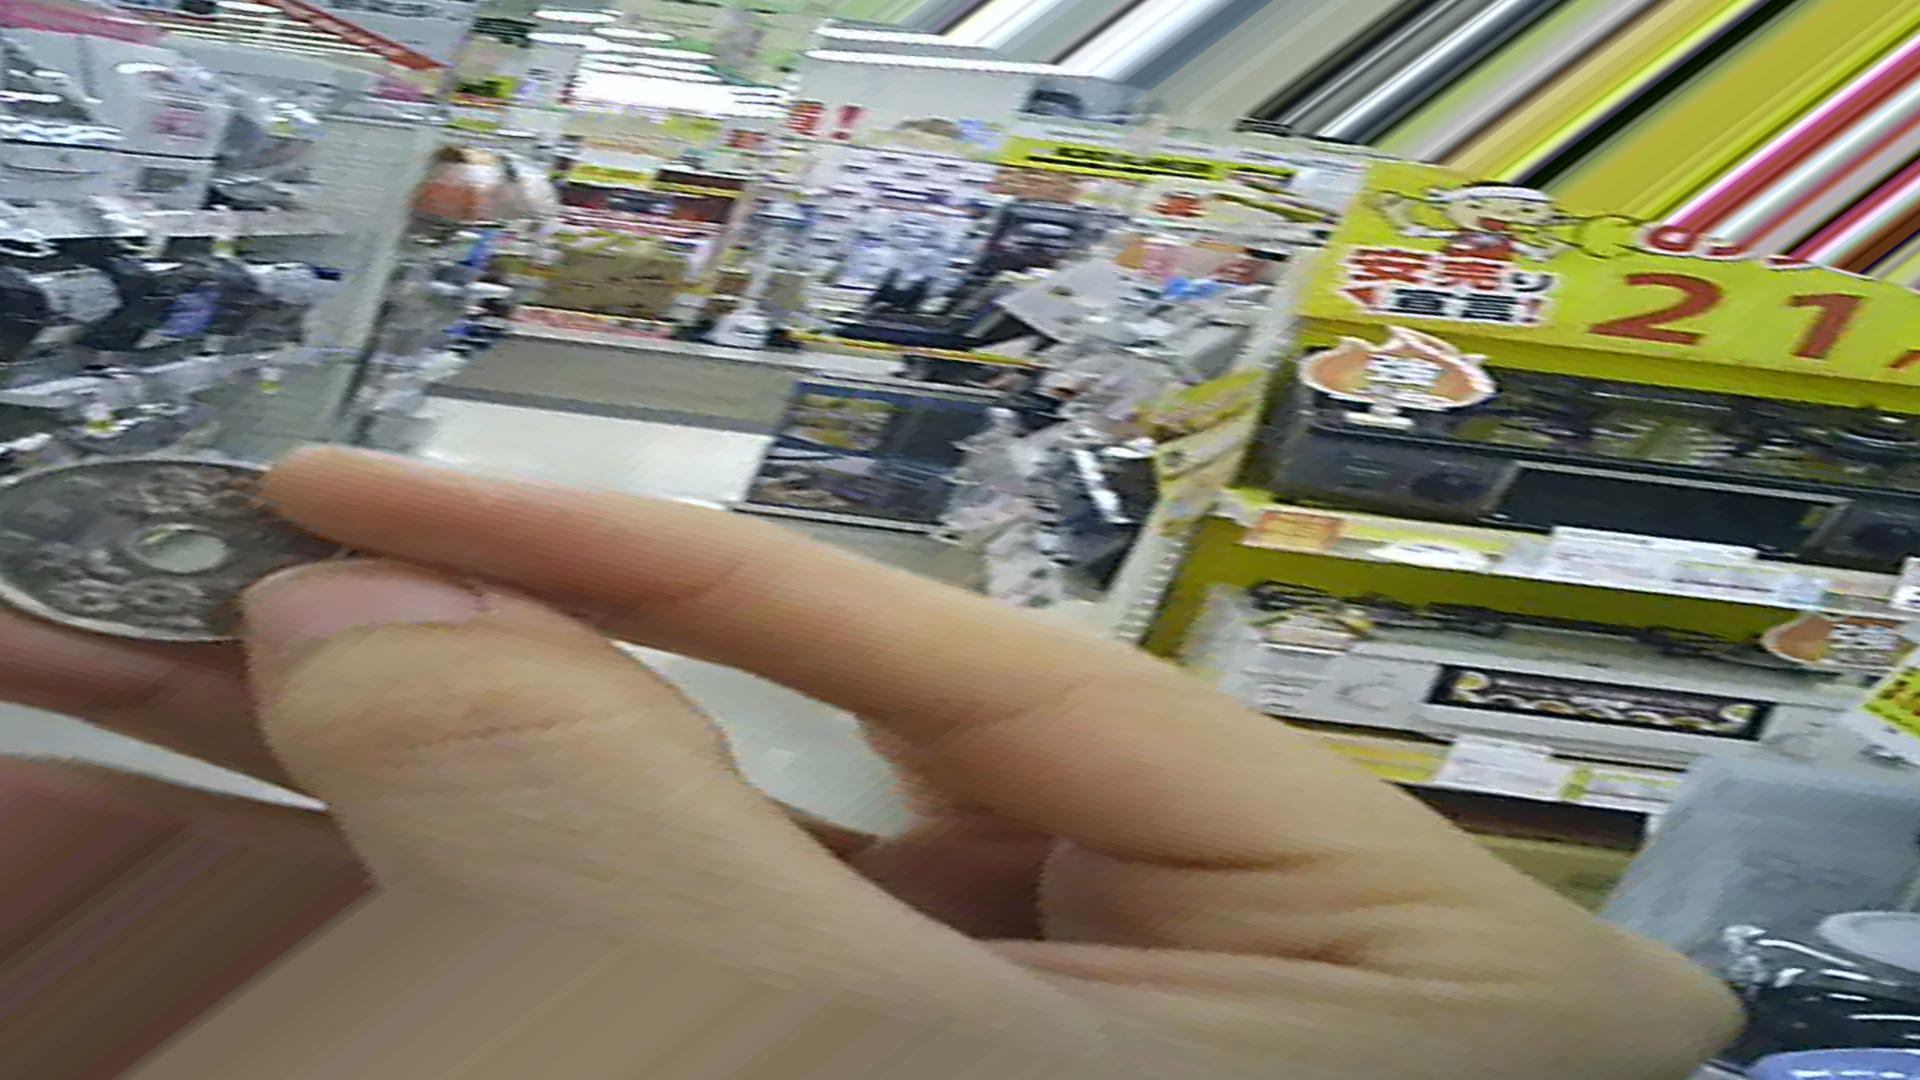50 Yen: (1, 450, 375, 683)
